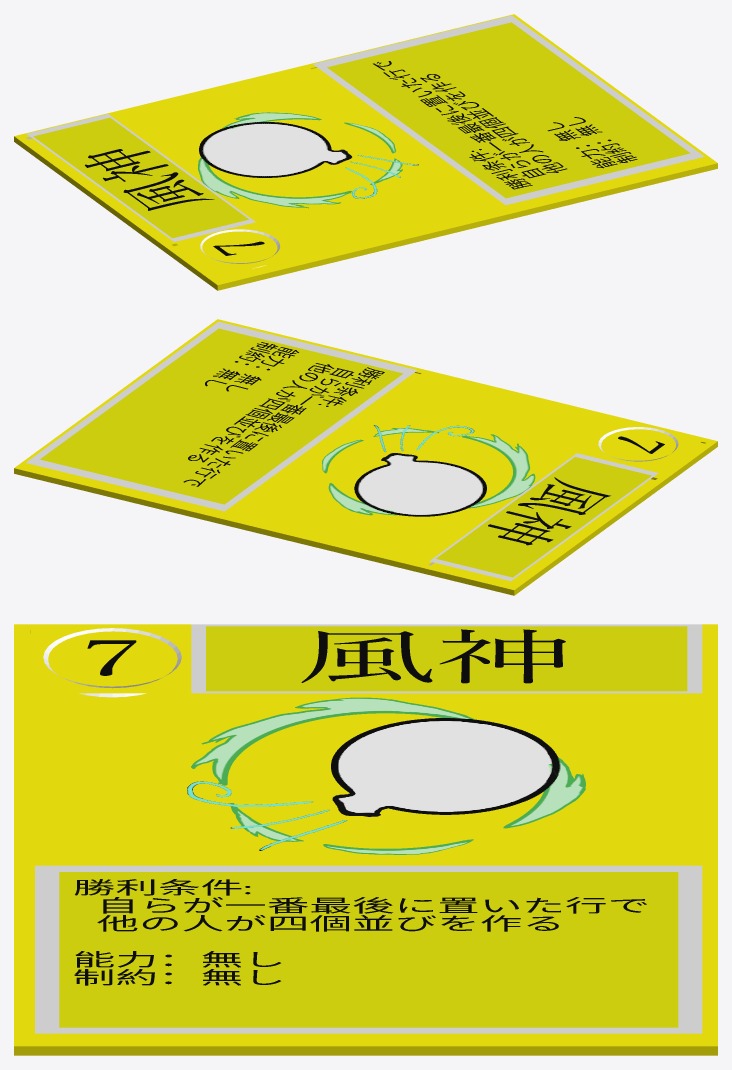
File: 風神黄.fbx
3 views of the same model, one above another, from view 1: azimuth 30°, elevation 25°; view 2: azimuth 150°, elevation 25°; view 3: azimuth 270°, elevation 25° (orthographic). The views are drawn at different scales.
Parts seen in each view (by area): view 1: カード本体.001, 説明欄, 名前欄, 平面.001, 説明文, 円, 平面, 名前; view 2: カード本体.001, 説明欄, 名前欄, 平面.001, 説明文, 円, 平面, 名前; view 3: カード本体.001, 説明欄, 名前欄, 平面.001, 説明文, 円, 平面, 名前, コスト蘭.
Part boxes in pixels (x1,y1,x2,y2): カード本体.001: (14,14,717,290); 説明欄: (313,15,704,205); 名前欄: (27,114,255,241); 平面.001: (198,112,418,208); 説明文: (373,61,637,189); 円: (202,231,276,262); 平面: (174,222,302,275); 名前: (85,149,214,210); カード本体.001: (14,319,717,595); 説明欄: (26,321,417,511); 名前欄: (429,453,658,581); 平面.001: (322,425,535,516); 説明文: (183,342,384,486); 円: (601,429,675,460); 平面: (577,419,704,472); 名前: (488,477,610,545); カード本体.001: (14,624,717,1055); 説明欄: (35,865,702,1033); 名前欄: (191,624,702,693); 平面.001: (187,697,585,854); 説明文: (74,879,646,985); 円: (48,631,177,686); 平面: (30,624,191,693); 名前: (301,629,565,683); コスト蘭: (43,628,181,697).
Bounding box in the file's own units: 281 × 6.07 × 198.
